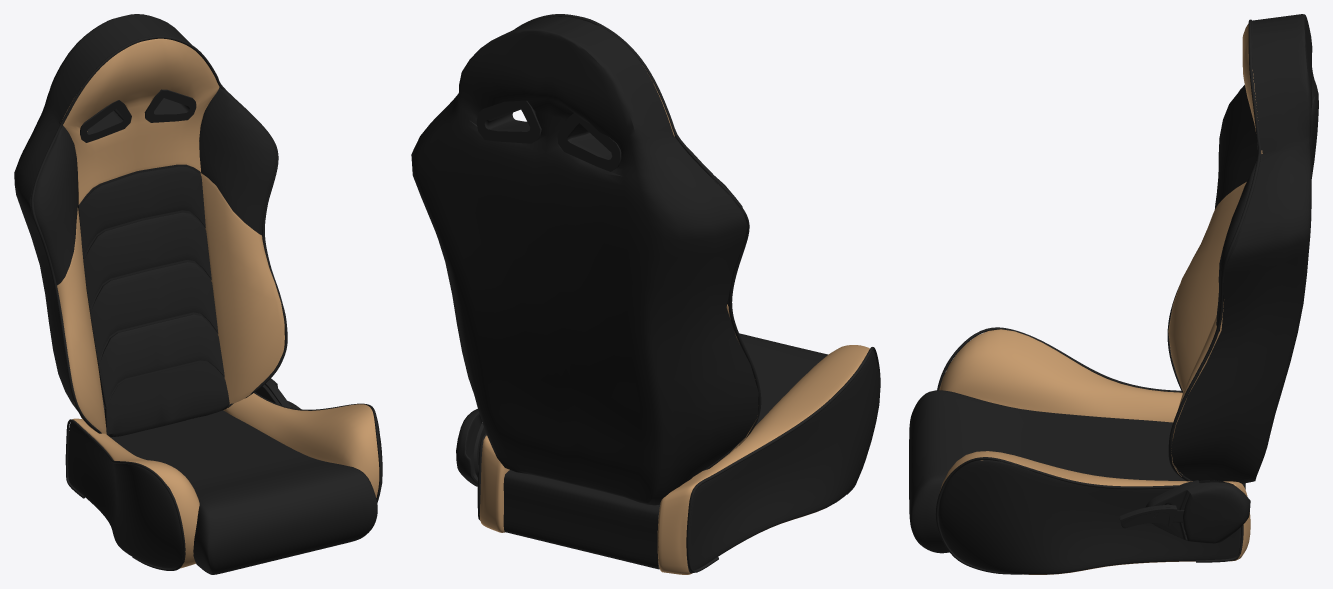
File: asiento.glb
3 views of the same model, side by side, from view 1: azimuth 30°, elevation 25°; view 2: azimuth 150°, elevation 25°; view 3: azimuth 270°, elevation 25° (orthographic). The views are drawn at different scales.
Visible parts, largest first — view 1: RGC_6:Backmesh, RGC_6:Light_Setup_With_Base:Recliner; view 2: RGC_6:Backmesh, RGC_6:Light_Setup_With_Base:Recliner; view 3: RGC_6:Backmesh, RGC_6:Light_Setup_With_Base:Recliner.
Part boxes in pixels (x1,y1,x2,y2): RGC_6:Backmesh: (14,14,382,574); RGC_6:Light_Setup_With_Base:Recliner: (255,378,300,409); RGC_6:Backmesh: (411,14,880,574); RGC_6:Light_Setup_With_Base:Recliner: (456,408,485,486); RGC_6:Backmesh: (909,14,1318,574); RGC_6:Light_Setup_With_Base:Recliner: (1119,480,1250,543).
Bounding box in the file's own units: 1.48 × 2.46 × 1.85.
